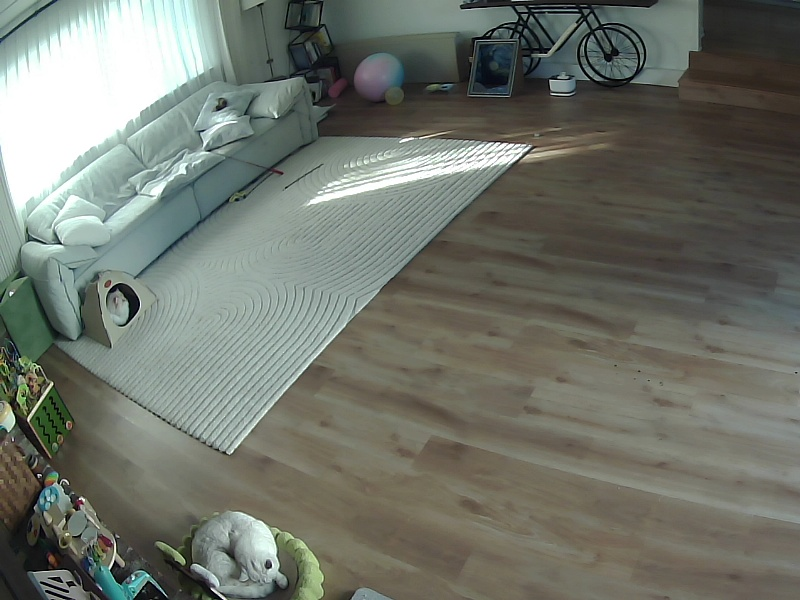Qb-2: (191, 511, 287, 597)
Qbo-2: (106, 289, 129, 325)
